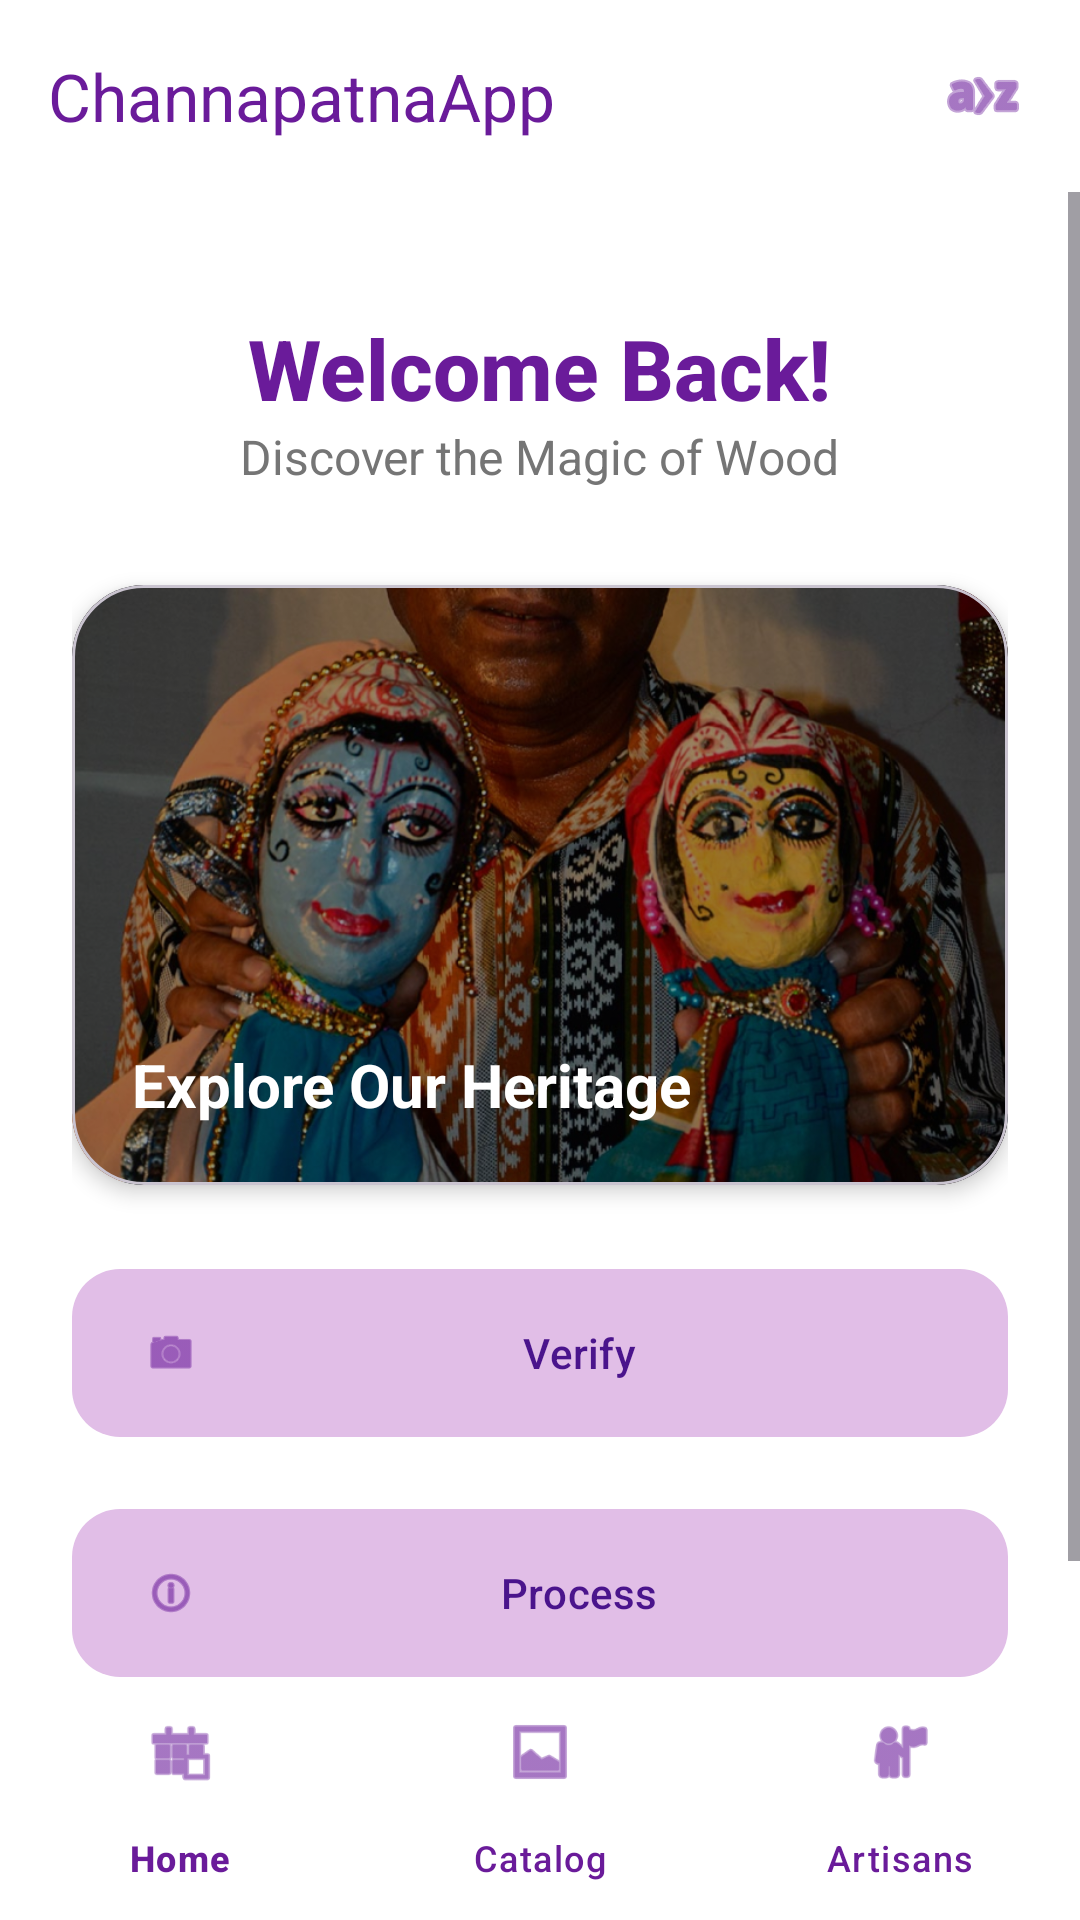

Icons on this 1080*1920 Android screen, each with its box as (x1, y1, x2, y2):
Language: (947, 77, 1019, 115)
